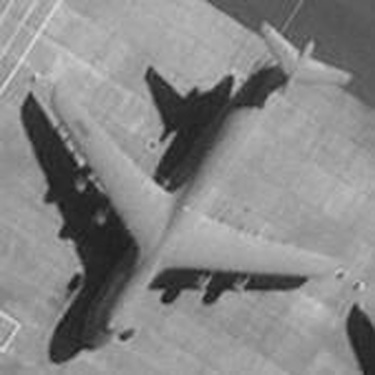airplane: (26, 17, 359, 369), (332, 265, 374, 341)
